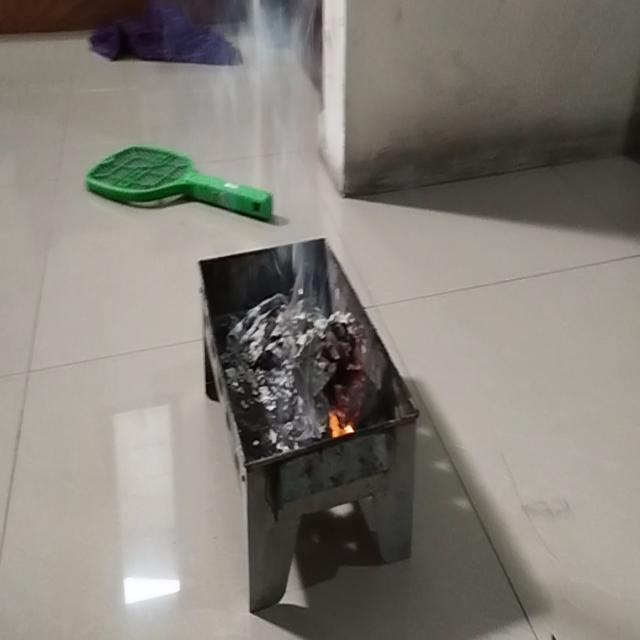fire: (224, 0, 313, 114), (282, 204, 331, 308)
smoke: (327, 400, 358, 440)
